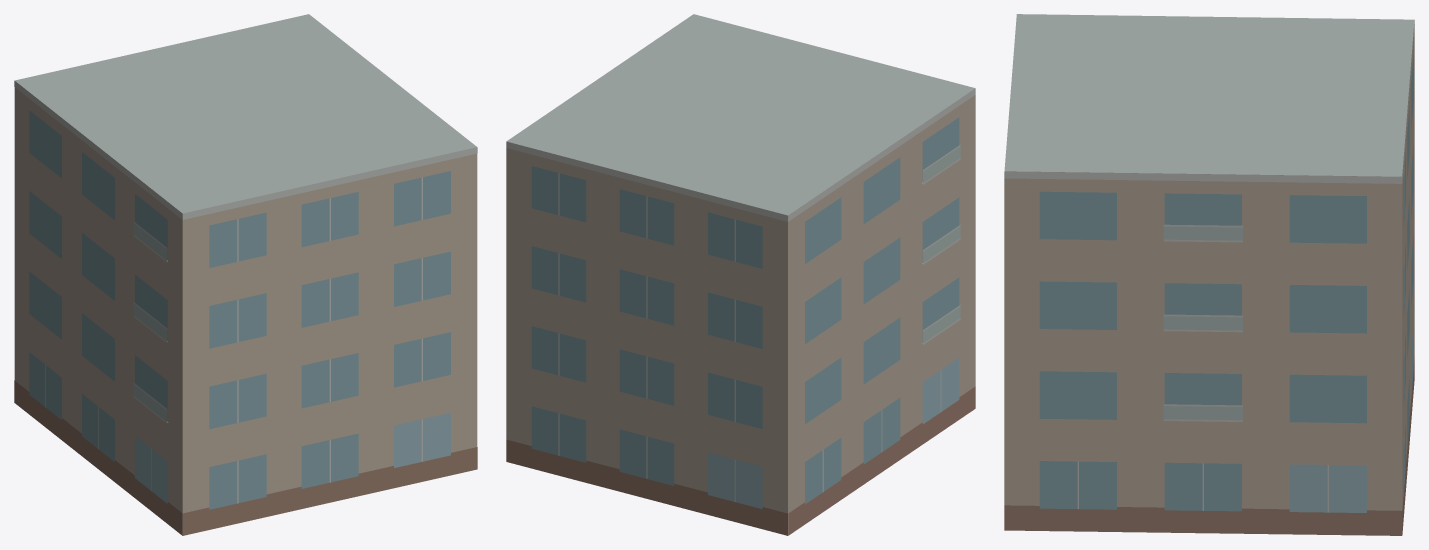
The model's file is residential-f97f578a-0efe-45be-8e2d-f85d0208ee08.glb.
3 renders of one model, left to right at view 1: azimuth 30°, elevation 25°; view 2: azimuth 150°, elevation 25°; view 3: azimuth 270°, elevation 25°, orthographic. The views are drawn at different scales.
Parts seen in each view (by area): view 1: residential-f97f578a-0efe-45be-8e2d-f85d0208ee08.tmp; view 2: residential-f97f578a-0efe-45be-8e2d-f85d0208ee08.tmp; view 3: residential-f97f578a-0efe-45be-8e2d-f85d0208ee08.tmp.
Boxes of the visible parts, x1,y1,x2,y2 form: residential-f97f578a-0efe-45be-8e2d-f85d0208ee08.tmp: (14,14,477,535); residential-f97f578a-0efe-45be-8e2d-f85d0208ee08.tmp: (506,14,975,535); residential-f97f578a-0efe-45be-8e2d-f85d0208ee08.tmp: (1004,14,1414,535).
Size of the model in its own units: 11.86 by 12.2 by 12.64.
